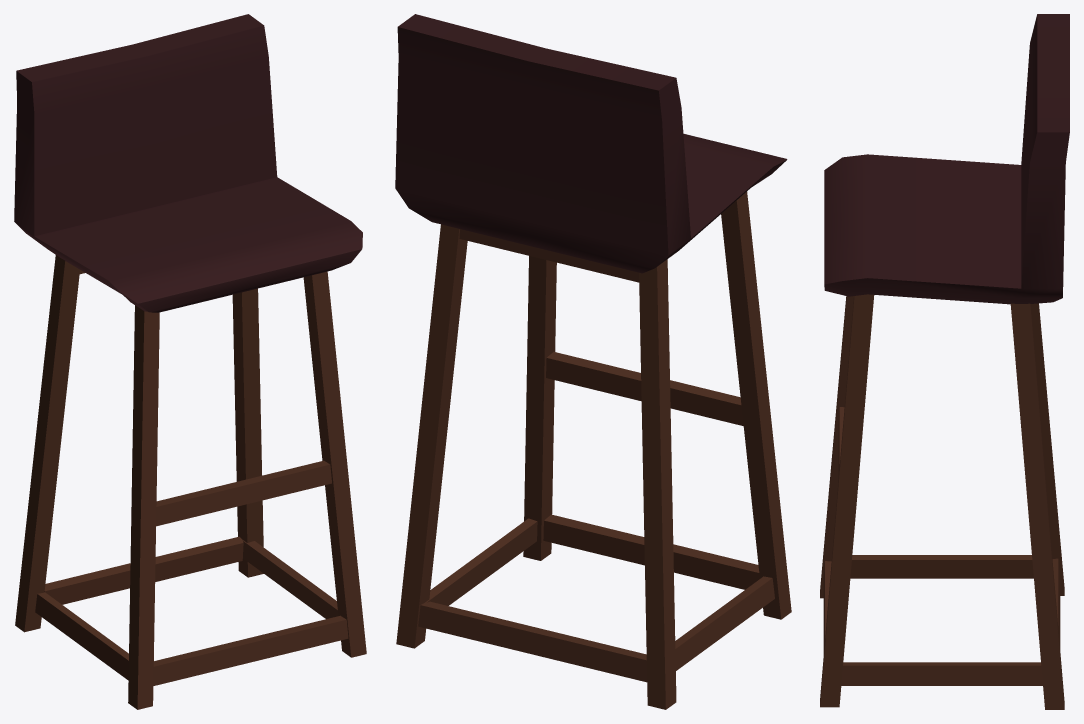
File: ChairUV.fbx
3 views of the same model, side by side, from view 1: azimuth 30°, elevation 25°; view 2: azimuth 150°, elevation 25°; view 3: azimuth 270°, elevation 25° (orthographic). The views are drawn at different scales.
Visible parts, largest first — view 1: polySurface34; view 2: polySurface34; view 3: polySurface34.
Part boxes in pixels (bbox=[...]): polySurface34: bbox=[14, 14, 366, 709]; polySurface34: bbox=[395, 14, 791, 709]; polySurface34: bbox=[820, 14, 1069, 709].
Size of the model in its own units: 3.98 by 8.63 by 3.4.
